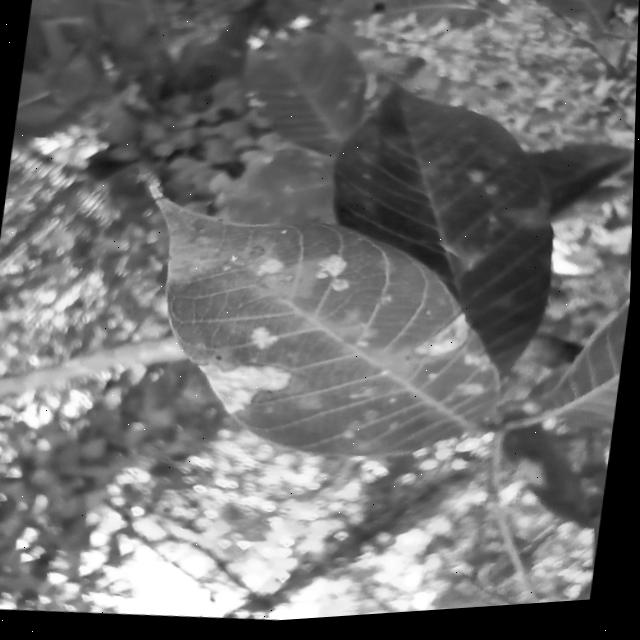Colletotrichum: (217, 358, 224, 364)
Leaf-Blight: (193, 361, 294, 424), (415, 315, 475, 368)
